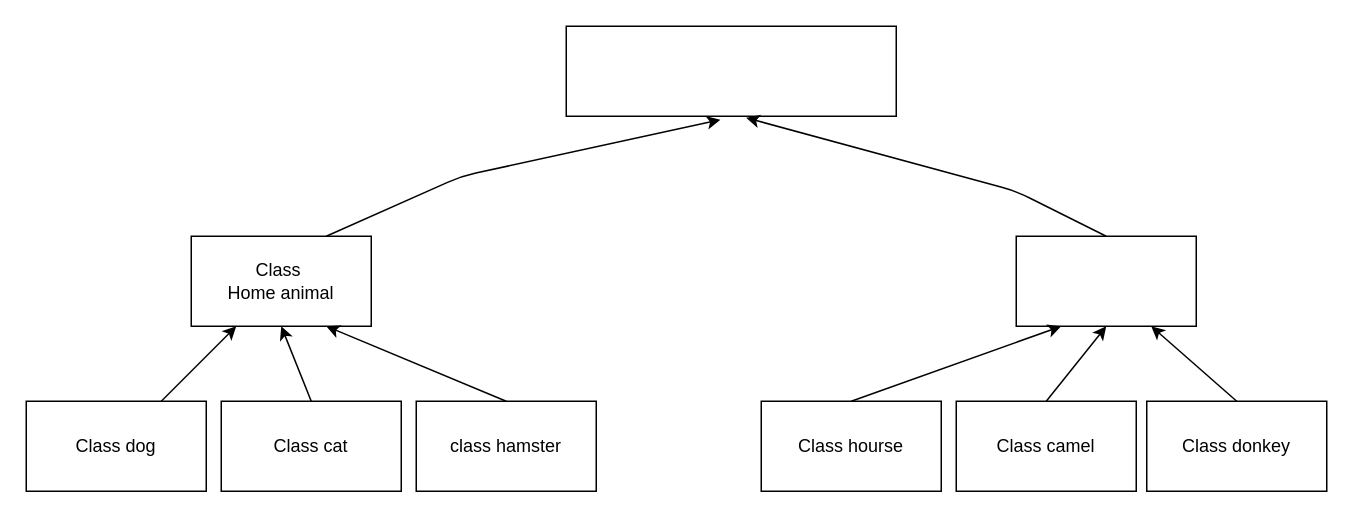
Some shapes in this 1353 by 518 pixel diagram are drawn without their labels. Each missing label, with the box of its shape:
Class animals: (565, 25, 896, 116)
Class pack animal: (1015, 235, 1196, 326)
